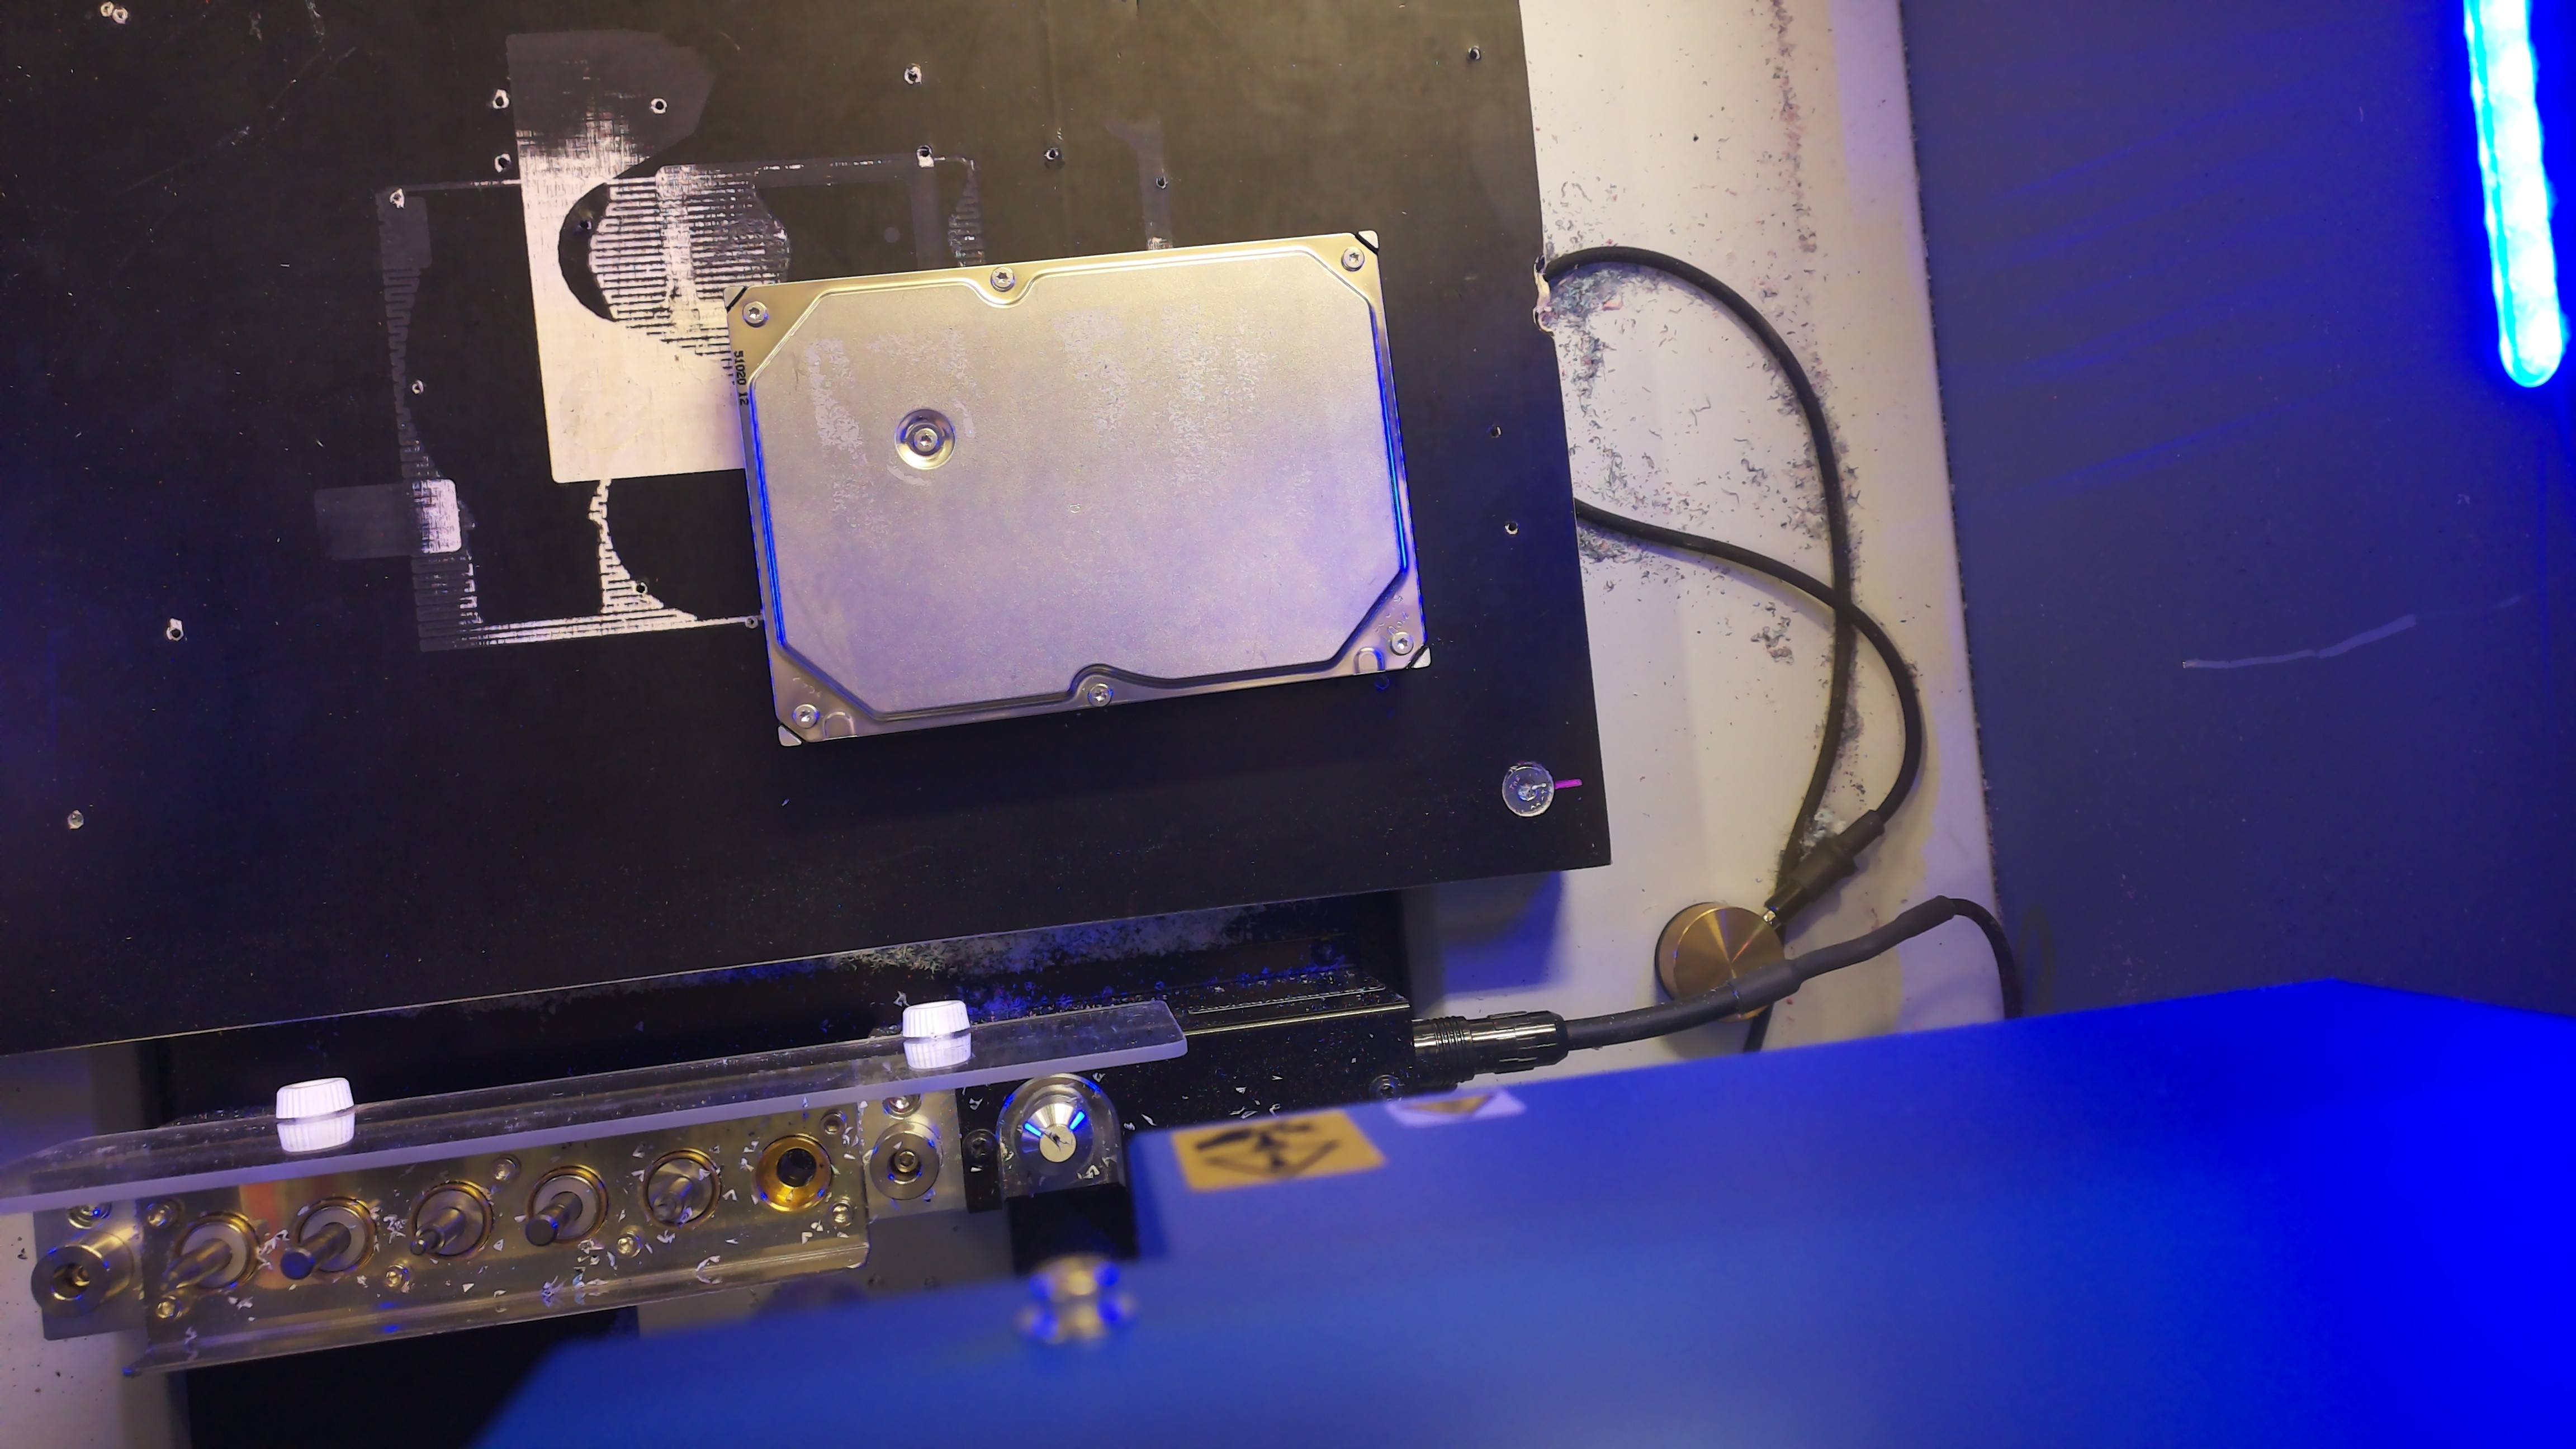Screw: (743, 301, 768, 327), (793, 704, 817, 729), (913, 428, 938, 453), (1341, 246, 1364, 271), (1088, 683, 1111, 708), (991, 267, 1014, 290), (1391, 632, 1414, 655)
